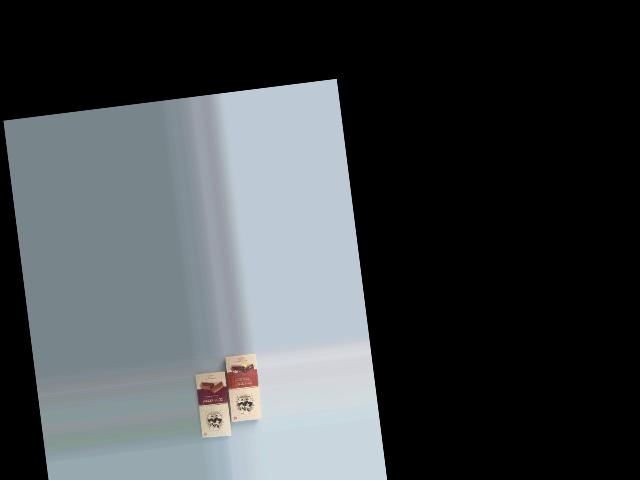chocolate: (217, 351, 265, 426)
